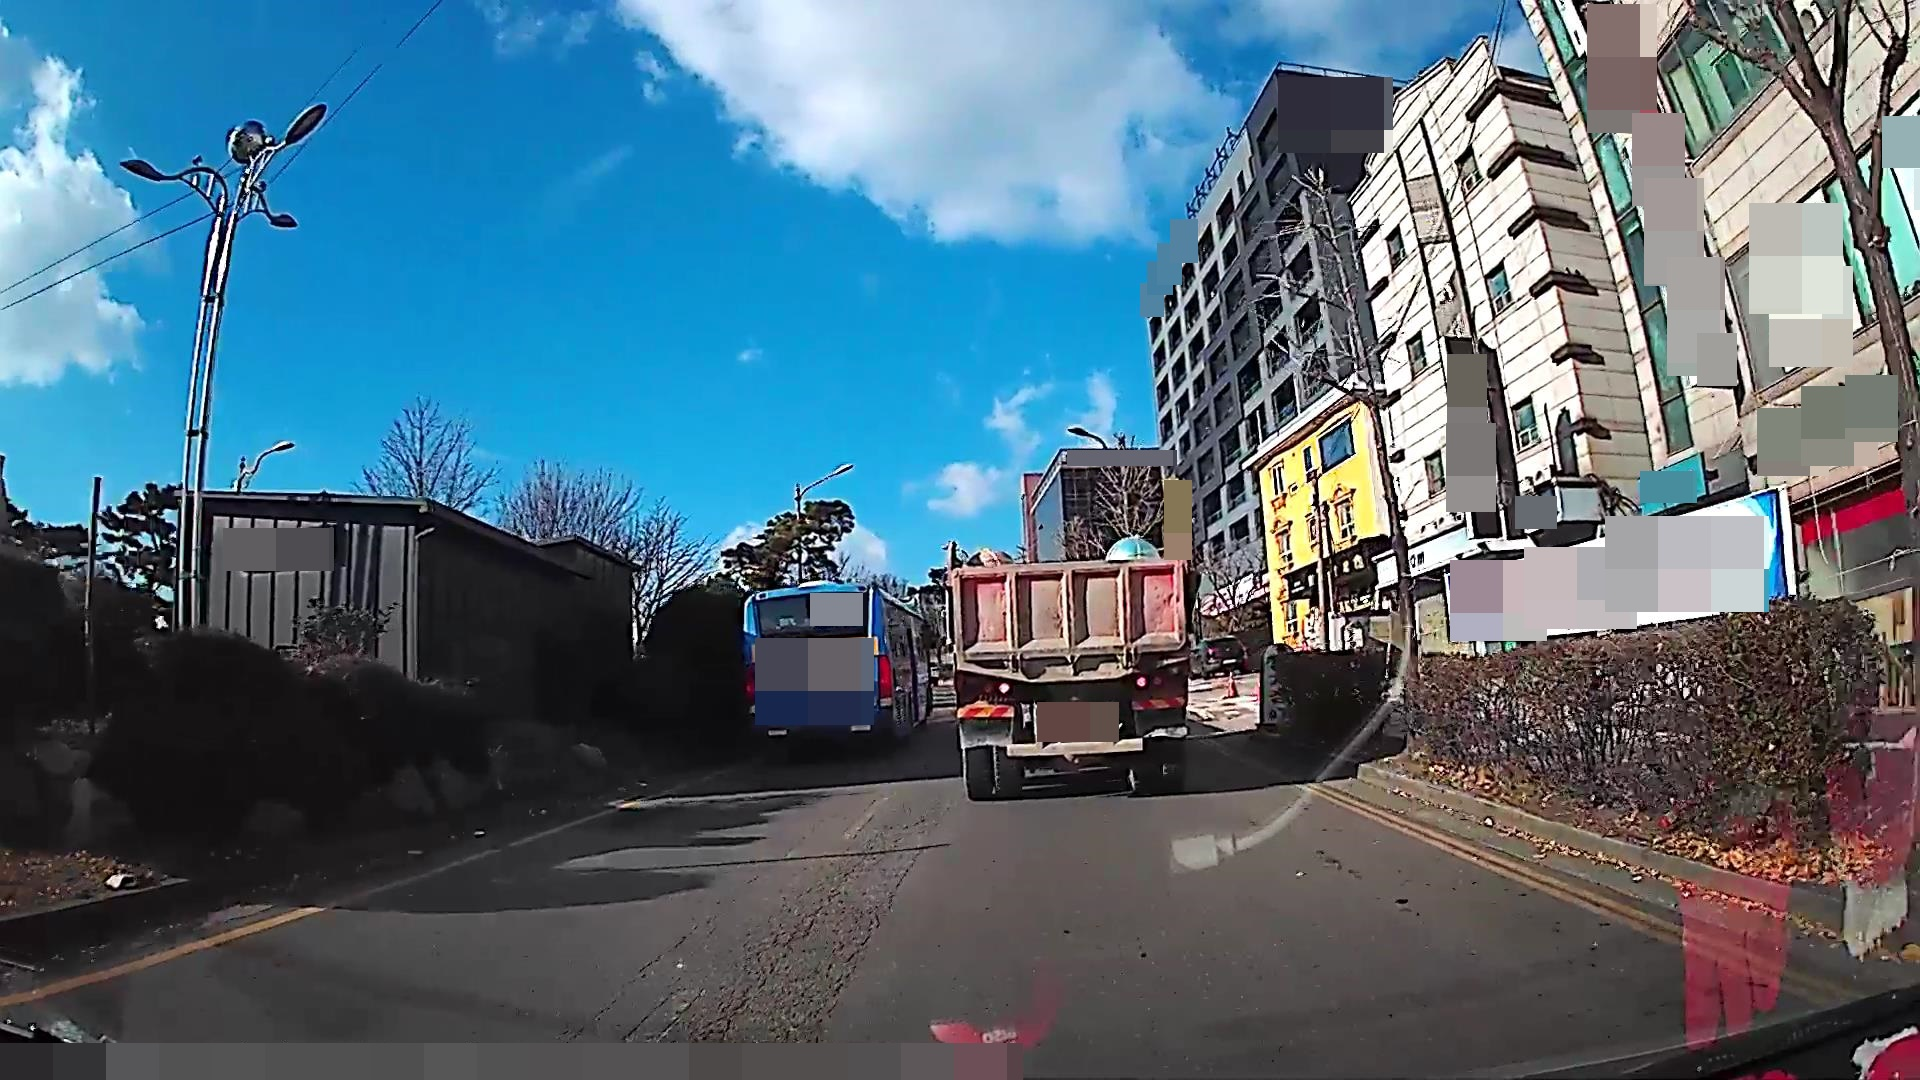불법차량: (943, 533, 1200, 800)
